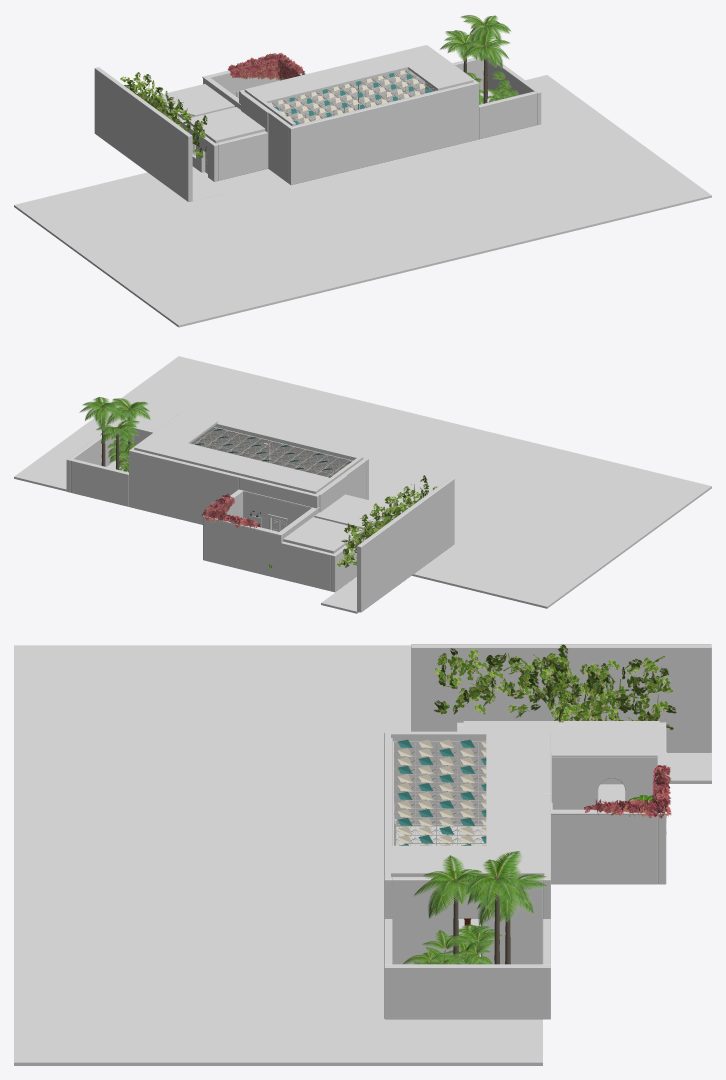
The model's file is house.glb.
3 views of the same model, one above another, from view 1: azimuth 30°, elevation 25°; view 2: azimuth 150°, elevation 25°; view 3: azimuth 270°, elevation 25° (orthographic). The views are drawn at different scales.
Parts seen in each view (by area): view 1: Static_stone_lm0.04, Static_brick_lm0.35, Static_court, Ceil_concrete, Static_brick_lm0.6, Ceil_timber, Static_wall, Roof_sunshades, Roof_spaceFrame, Static_panel, Foliage_palm0, Static_brick_lm0.8 (+7 smaller); view 2: Static_stone_lm0.04, Static_court, Static_brick_lm0.35, Ceil_concrete, Static_brick_lm0.6, Ceil_timber, Static_wall, Static_brick_lm0.8, Roof_spaceFrame, Foliage_peepal, Static_concrete, Foliage_palm1 (+7 smaller); view 3: Static_stone_lm0.04, Static_court, Ceil_concrete, Static_brick_lm0.35, Static_brick_lm0.6, Foliage_peepal, Foliage_laneTree, Roof_sunshades, Static_brick_lm0.8, Ceil_timber, Roof_spaceFrame, Foliage_palm1 (+10 smaller).
Part boxes in pixels (x1,y1,x2,y2): Static_stone_lm0.04: [14, 75, 711, 327]; Static_brick_lm0.35: [239, 45, 478, 185]; Static_court: [94, 67, 289, 201]; Ceil_concrete: [244, 45, 473, 126]; Static_brick_lm0.6: [452, 56, 541, 139]; Ceil_timber: [157, 84, 265, 143]; Static_wall: [149, 98, 268, 181]; Roof_sunshades: [269, 70, 431, 124]; Roof_spaceFrame: [271, 69, 436, 124]; Static_panel: [292, 77, 436, 123]; Foliage_palm0: [464, 30, 510, 103]; Static_brick_lm0.8: [272, 69, 436, 125]; Static_stone_lm0.04: [14, 356, 711, 608]; Static_court: [203, 477, 454, 612]; Static_brick_lm0.35: [129, 413, 368, 524]; Ceil_concrete: [134, 412, 363, 493]; Static_brick_lm0.6: [66, 422, 155, 506]; Ceil_timber: [283, 494, 392, 553]; Static_wall: [281, 513, 394, 592]; Static_brick_lm0.8: [191, 424, 356, 476]; Roof_spaceFrame: [191, 427, 351, 476]; Foliage_peepal: [337, 503, 395, 567]; Static_concrete: [107, 426, 352, 475]; Foliage_palm1: [79, 397, 125, 466]; Static_stone_lm0.04: [14, 645, 542, 1065]; Static_court: [411, 644, 711, 884]; Ceil_concrete: [391, 731, 544, 876]; Static_brick_lm0.35: [384, 732, 550, 964]; Static_brick_lm0.6: [384, 919, 550, 1019]; Foliage_peepal: [548, 656, 676, 729]; Foliage_laneTree: [433, 644, 572, 722]; Roof_sunshades: [397, 739, 486, 845]; Static_brick_lm0.8: [392, 738, 486, 824]; Ceil_timber: [463, 721, 659, 751]; Roof_spaceFrame: [394, 742, 486, 845]; Foliage_palm1: [465, 851, 528, 964].
Size of the model in its own units: 55.2 by 8.82 by 39.
136 materials, 26 textured.
